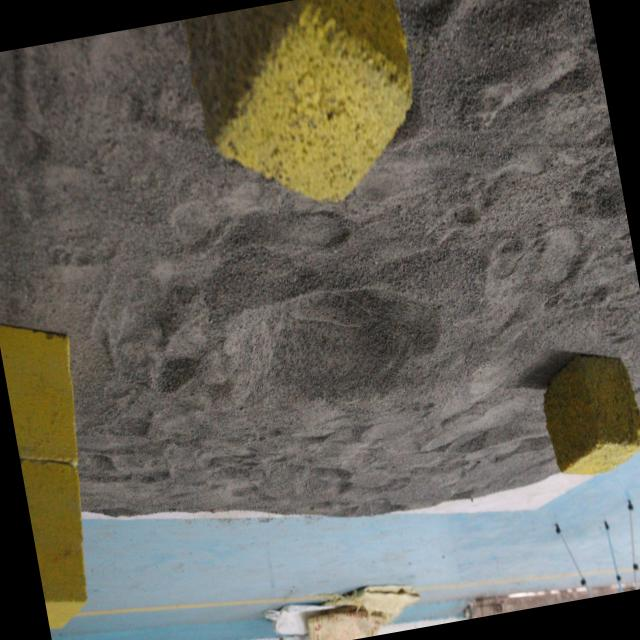box: (186, 0, 442, 217), (531, 332, 640, 489)
crater: (208, 248, 462, 428)
